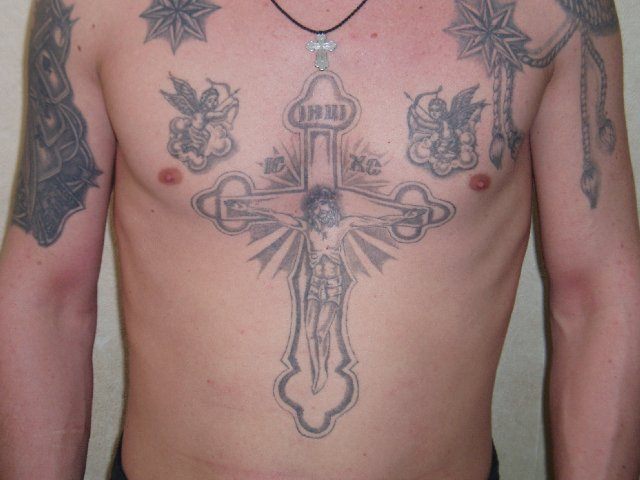tatu1_angel: (391, 75, 488, 184), (159, 66, 241, 168)
tatu4_zvezda: (108, 1, 249, 64), (436, 2, 538, 73)
tatu9_krest: (208, 67, 461, 436)
